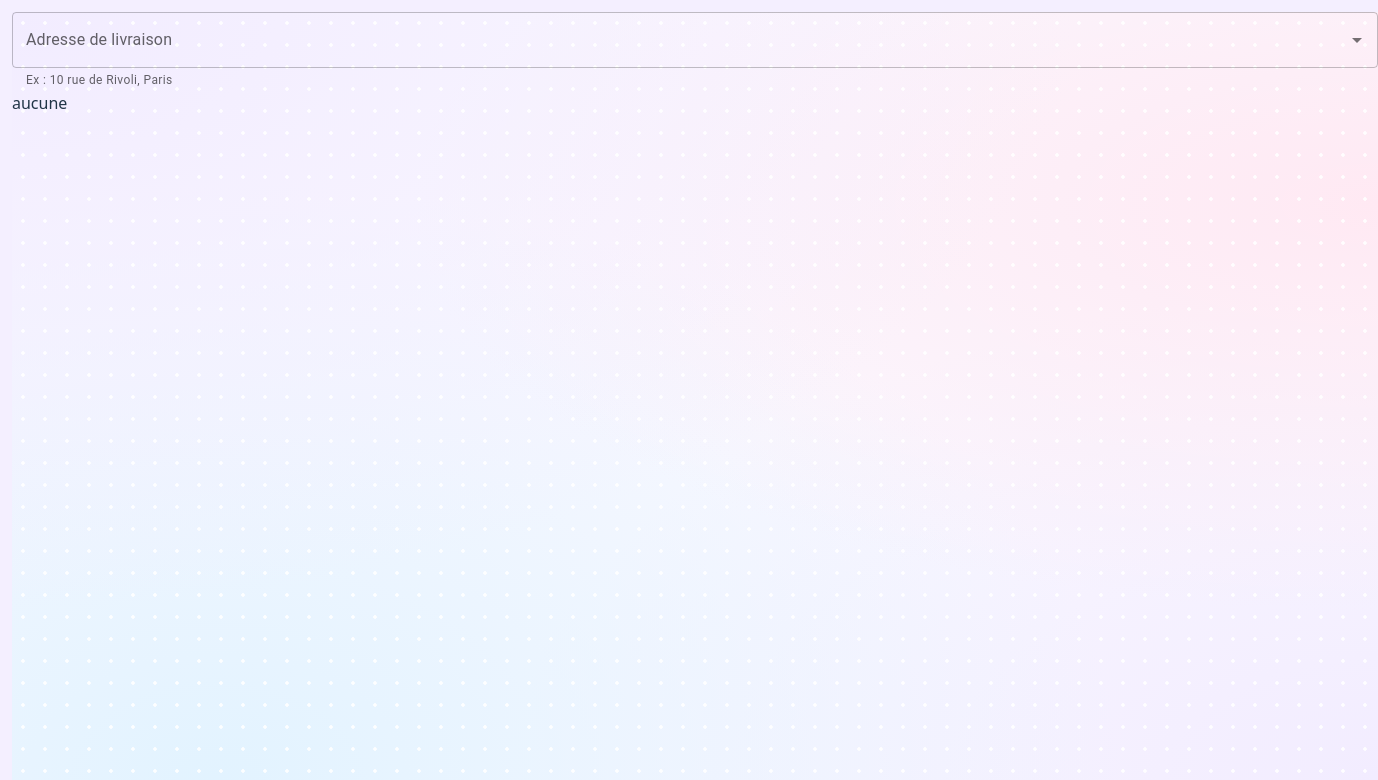
Test: AddressAutocomplete › propose les adresses renvoyées par l’API et enregistre celle choisie
Type "10 rue de rivoli" into the dropdown labelled "Adresse de livraison". click: x=680, y=40
box: [21,21,1339,59]
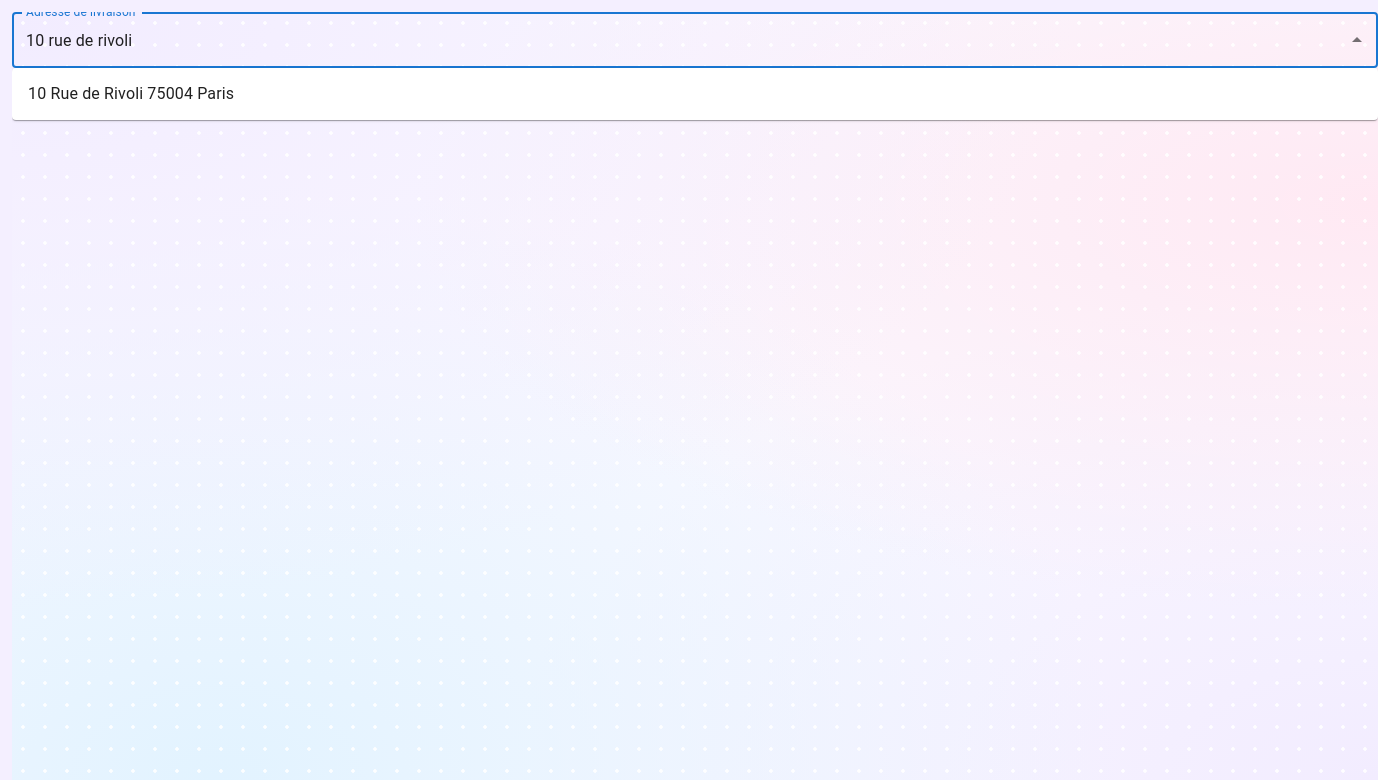
// findBy... attend que l'élément apparaisse (délai de frappe + réponse de l'API).
Click the option "10 Rue de Rivoli 75004 Paris". click: x=131, y=94
box: [28,84,234,103]
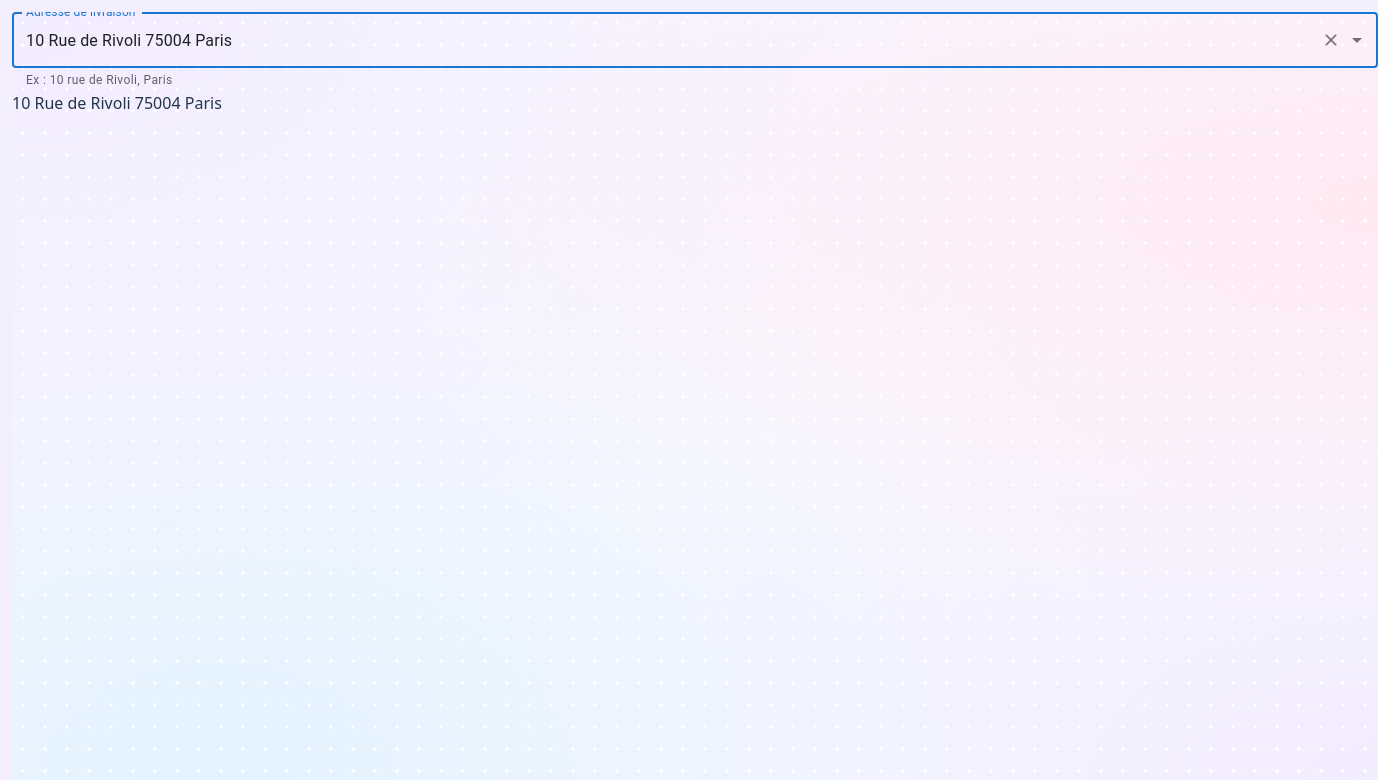
Check: the text with test id "chosen-address" reads "10 Rue de Rivoli 75004 Paris", box [12,92,222,114]
